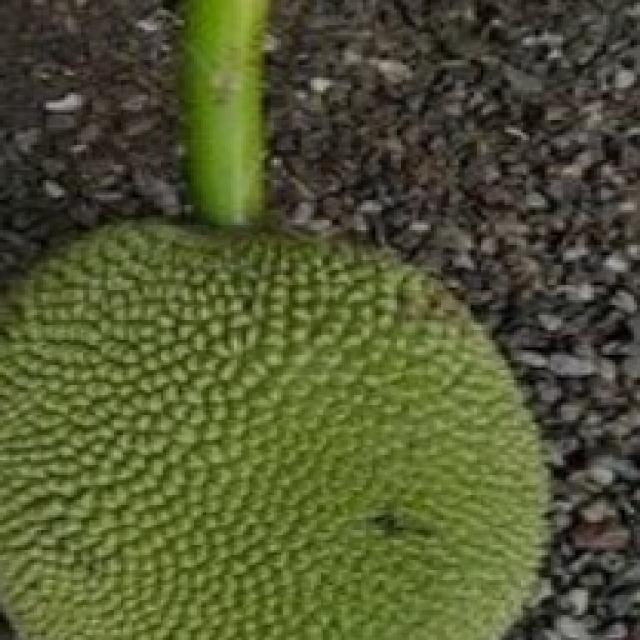Fruit: (0, 190, 397, 635), (267, 227, 606, 640), (215, 0, 640, 328)
